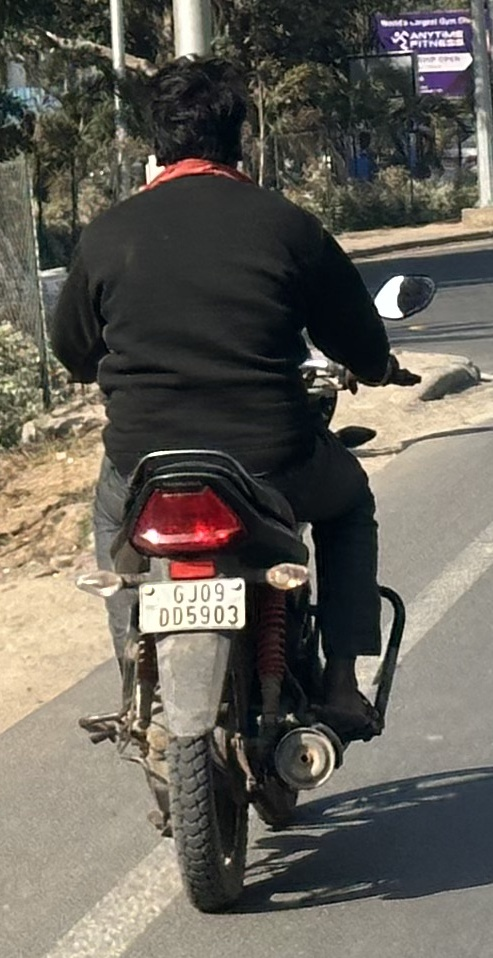BikeWithRider: (37, 43, 446, 923)
NoHelmet: (123, 47, 272, 196)
